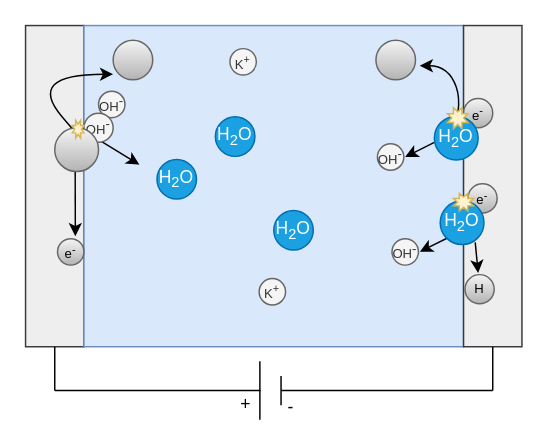
Some shapes in this 548 by 448 pixel diagram are drawn without their labels. Here are the shapes that lost their labels. From the top down, the centre of each, then its label:
the point at 132,59: N 2
the point at 395,59: H 2
the point at 76,149: NH 3
